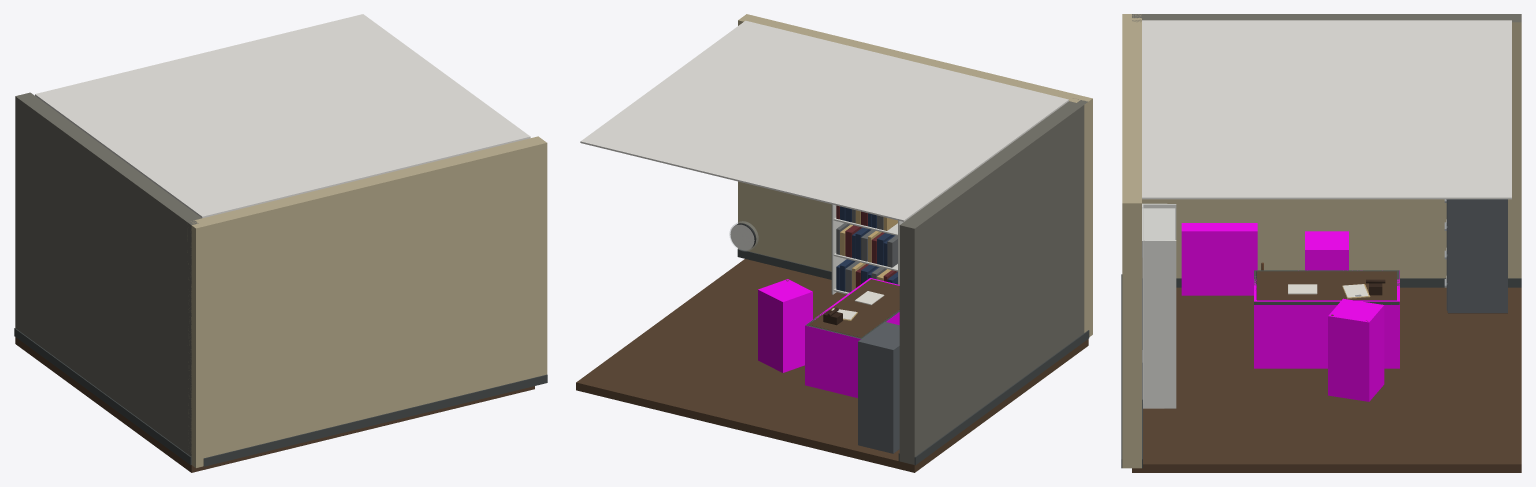
The model's file is ENV_DisusedAdminOffice.glb.
3 views of the same model, side by side, from view 1: azimuth 30°, elevation 25°; view 2: azimuth 150°, elevation 25°; view 3: azimuth 270°, elevation 25° (orthographic). The views are drawn at different scales.
Visible parts, largest first — view 1: ENV_DisusedAdminOffice_Architecture, ENV_DisusedAdminOffice_Ceiling, ENV_DisusedAdminOffice_Posts; view 2: ENV_DisusedAdminOffice_Architecture, ENV_DisusedAdminOffice_Ceiling, PROP_Cabinet_Filing_4Drawer_Mesh, PROP_Bookcase_Binders_Mesh, PROP_Chair_Wood_Historic_COL-colonly.003, PROP_Desk_Steel_Tanker_COL-colonly.001, PROP_Desk_Steel_Tanker_Mesh.001, ENV_DisusedAdminOffice_Posts, PROP_Clock_Wall_Caged_Mesh; view 3: ENV_DisusedAdminOffice_Architecture, ENV_DisusedAdminOffice_Ceiling, PROP_Bookcase_Binders_Mesh, PROP_Cabinet_Filing_4Drawer_Mesh, PROP_Desk_Steel_Tanker_COL-colonly.001, PROP_Radiator_Cast_Iron_COL-colonly.003, PROP_Chair_Wood_Historic_COL-colonly.003, PROP_Desk_Steel_Tanker_Mesh.001, PROP_Chair_Wood_Historic_COL-colonly.002.
Part boxes in pixels (left/top/right/bottom): ENV_DisusedAdminOffice_Architecture: left=14, top=92, right=547, bottom=472; ENV_DisusedAdminOffice_Ceiling: left=35, top=14, right=530, bottom=218; ENV_DisusedAdminOffice_Posts: left=187, top=219, right=211, bottom=467; ENV_DisusedAdminOffice_Architecture: left=576, top=14, right=1089, bottom=472; ENV_DisusedAdminOffice_Ceiling: left=580, top=20, right=1068, bottom=221; PROP_Cabinet_Filing_4Drawer_Mesh: left=858, top=322, right=899, bottom=453; PROP_Bookcase_Binders_Mesh: left=831, top=204, right=903, bottom=294; PROP_Chair_Wood_Historic_COL-colonly.003: left=758, top=279, right=812, bottom=372; PROP_Desk_Steel_Tanker_COL-colonly.001: left=805, top=278, right=899, bottom=397; PROP_Desk_Steel_Tanker_Mesh.001: left=805, top=279, right=899, bottom=338; ENV_DisusedAdminOffice_Posts: left=1074, top=95, right=1092, bottom=336; PROP_Clock_Wall_Caged_Mesh: left=729, top=221, right=758, bottom=251; ENV_DisusedAdminOffice_Architecture: left=1121, top=14, right=1521, bottom=472; ENV_DisusedAdminOffice_Ceiling: left=1142, top=20, right=1511, bottom=199; PROP_Bookcase_Binders_Mesh: left=1142, top=203, right=1176, bottom=408; PROP_Cabinet_Filing_4Drawer_Mesh: left=1444, top=199, right=1507, bottom=313; PROP_Desk_Steel_Tanker_COL-colonly.001: left=1254, top=270, right=1399, bottom=368; PROP_Radiator_Cast_Iron_COL-colonly.003: left=1181, top=223, right=1257, bottom=295; PROP_Chair_Wood_Historic_COL-colonly.003: left=1328, top=298, right=1384, bottom=401; PROP_Desk_Steel_Tanker_Mesh.001: left=1254, top=270, right=1399, bottom=304; PROP_Chair_Wood_Historic_COL-colonly.002: left=1305, top=231, right=1348, bottom=270.
Size of what is drawn, in the model's own units: 4.61 by 3.12 by 4.11.
